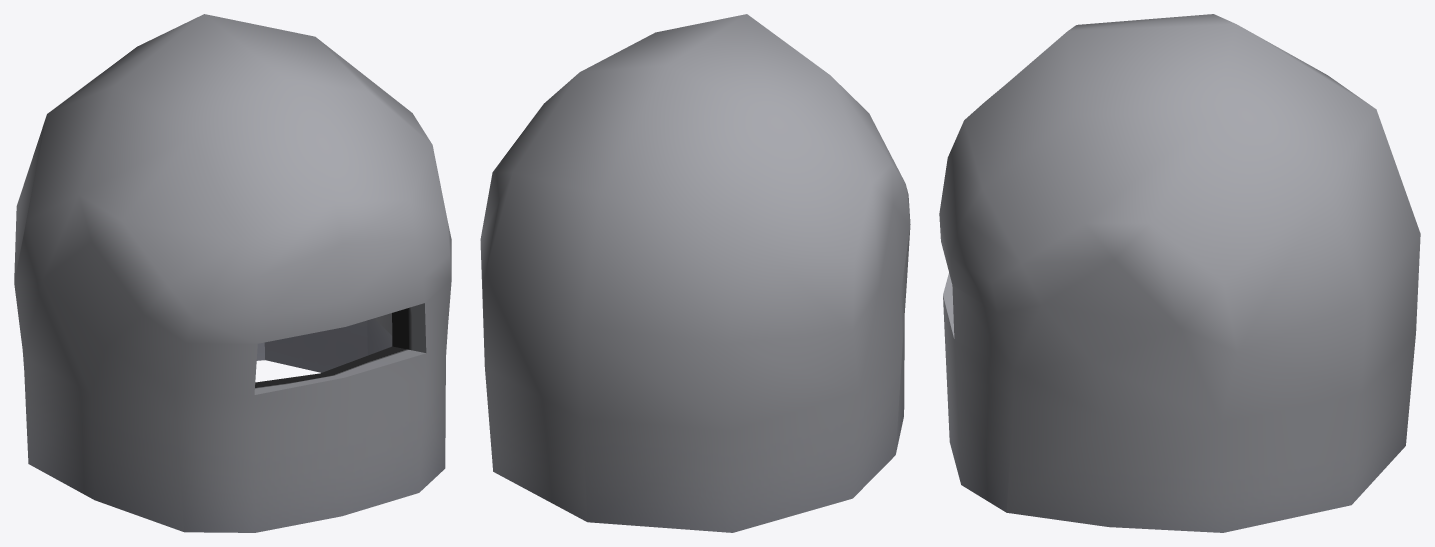
The model's file is mod_prop_warrior_hat.fbx.
3 renders of one model, left to right at view 1: azimuth 30°, elevation 25°; view 2: azimuth 150°, elevation 25°; view 3: azimuth 270°, elevation 25°, orthographic. The views are drawn at different scales.
Visible parts, largest first — view 1: mod_prop_warrior_hat; view 2: mod_prop_warrior_hat; view 3: mod_prop_warrior_hat.
Boxes of the visible parts, box(x1,y1,x2,y2) form: mod_prop_warrior_hat: box(14, 14, 451, 532); mod_prop_warrior_hat: box(480, 14, 910, 532); mod_prop_warrior_hat: box(939, 14, 1420, 532).
Bounding box in the file's own units: 34.9 × 35.69 × 36.87.
